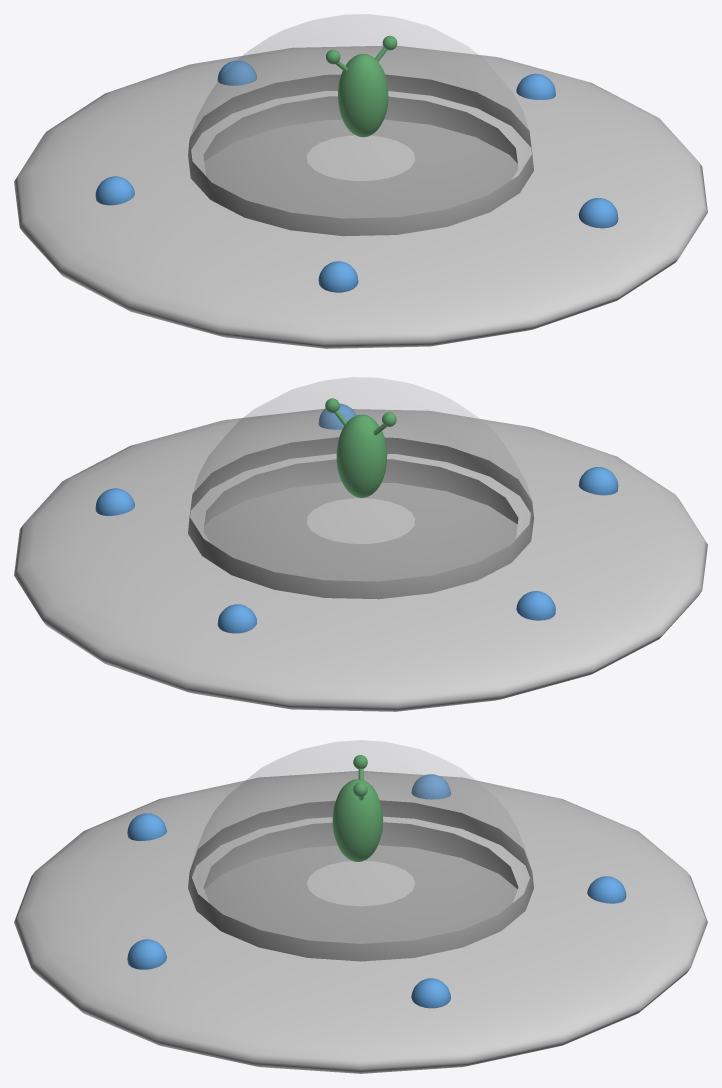
File: Alien.fbx
3 views of the same model, one above another, from view 1: azimuth 30°, elevation 25°; view 2: azimuth 150°, elevation 25°; view 3: azimuth 270°, elevation 25° (orthographic).
Parts seen in each view (by area): view 1: UFO_Disc, UFO_Caarriage, Ship_Floor, AlienHead, UFO_Light2, UFO_Light3, UFO_Light1, UFO_Light4, UFO_Light; view 2: UFO_Disc, UFO_Caarriage, Ship_Floor, AlienHead, UFO_Light1, UFO_Light, UFO_Light2, UFO_Light4, UFO_Light3; view 3: UFO_Disc, UFO_Caarriage, Ship_Floor, AlienHead, UFO_Light3, UFO_Light4, UFO_Light2, UFO_Light, UFO_Light1.
Part boxes in pixels (bbox=[...]): UFO_Disc: bbox=[14, 45, 707, 348]; UFO_Caarriage: bbox=[188, 14, 533, 236]; Ship_Floor: bbox=[204, 119, 518, 218]; AlienHead: bbox=[338, 54, 388, 137]; UFO_Light2: bbox=[318, 261, 358, 292]; UFO_Light3: bbox=[578, 198, 618, 228]; UFO_Light1: bbox=[95, 176, 134, 205]; UFO_Light4: bbox=[516, 73, 555, 99]; UFO_Light: bbox=[217, 60, 256, 85]; UFO_Disc: bbox=[14, 408, 707, 711]; UFO_Caarriage: bbox=[188, 377, 533, 599]; Ship_Floor: bbox=[203, 482, 517, 581]; AlienHead: bbox=[336, 414, 387, 497]; UFO_Light1: bbox=[516, 591, 555, 620]; UFO_Light: bbox=[217, 604, 256, 633]; UFO_Light2: bbox=[578, 467, 618, 495]; UFO_Light4: bbox=[95, 488, 134, 515]; UFO_Light3: bbox=[318, 403, 356, 429]; UFO_Disc: bbox=[14, 771, 707, 1073]; UFO_Caarriage: bbox=[188, 740, 533, 961]; Ship_Floor: bbox=[204, 845, 517, 943]; AlienHead: bbox=[332, 779, 383, 861]; UFO_Light3: bbox=[127, 939, 166, 969]; UFO_Light4: bbox=[411, 978, 450, 1008]; UFO_Light2: bbox=[127, 813, 166, 840]; UFO_Light: bbox=[587, 876, 626, 903]; UFO_Light1: bbox=[411, 774, 450, 799].
Size of the model in its own units: 4 by 1.83 by 4.
